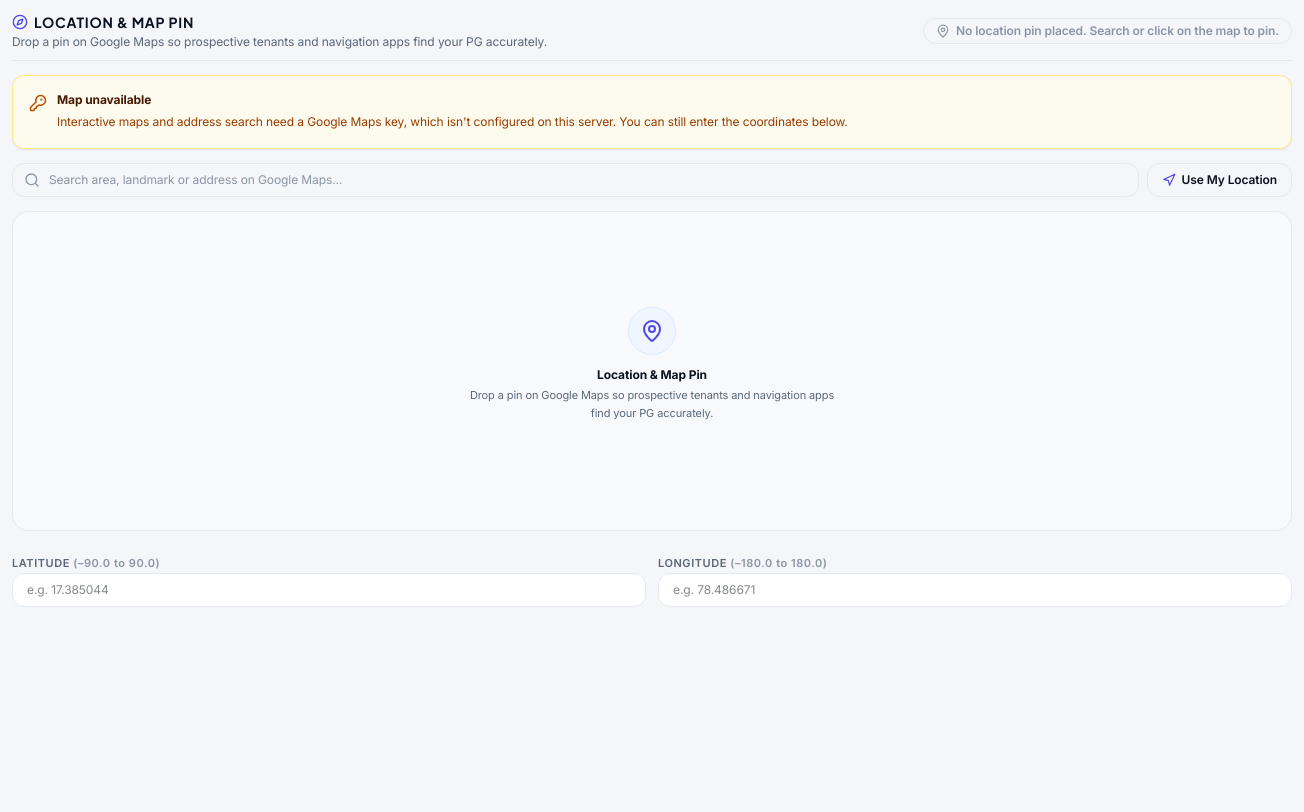
Test case: PropertyMapPicker › use my location › an unsupported browser gets an inline message, not an alert()
This screenshot has width=1304, height=812.
Click the button "Use My Location".
click(1219, 180)  # box [1146,162,1292,196]
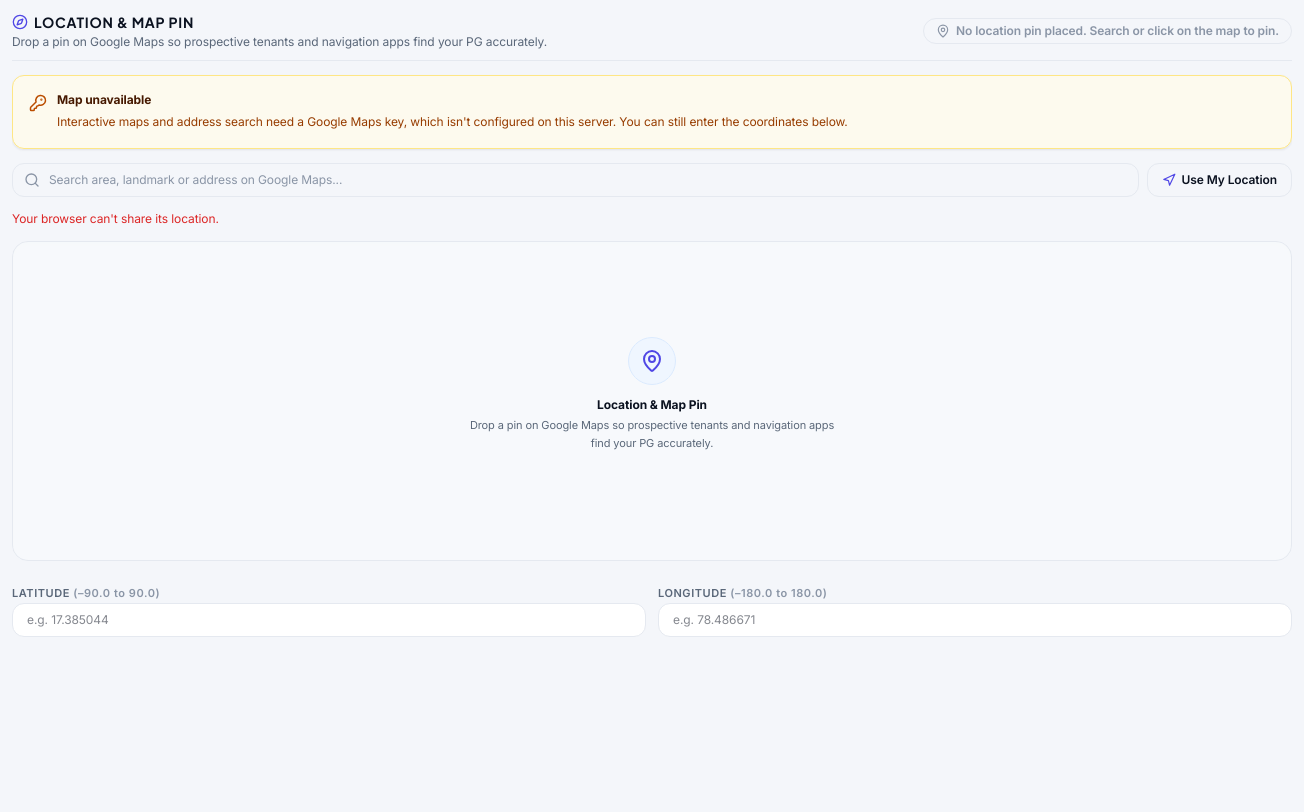
expect the message reads "Your browser can't share its location.": met, box [12,210,219,226]
